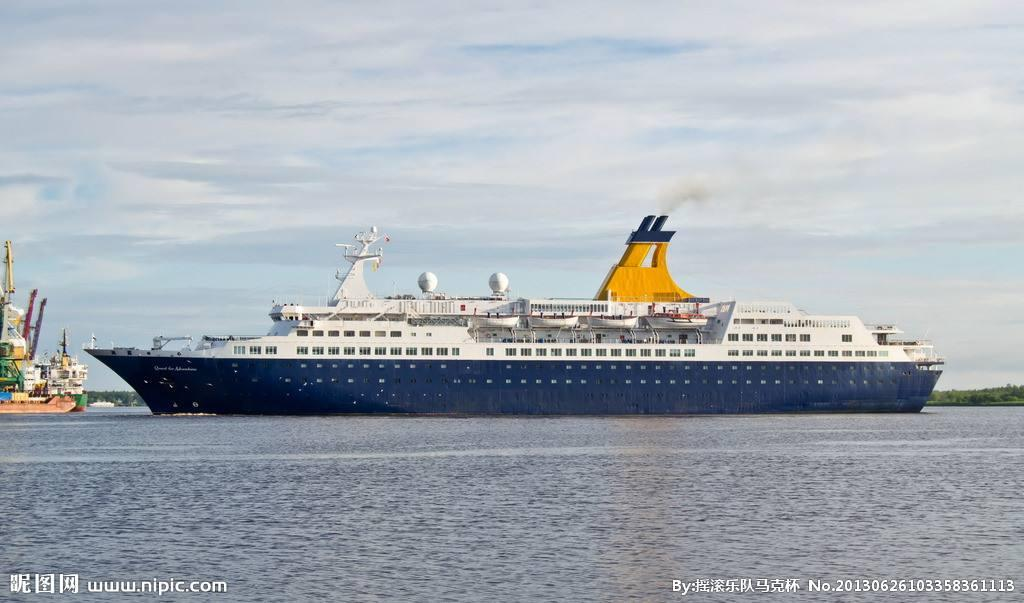youlun: (81, 197, 947, 421)
